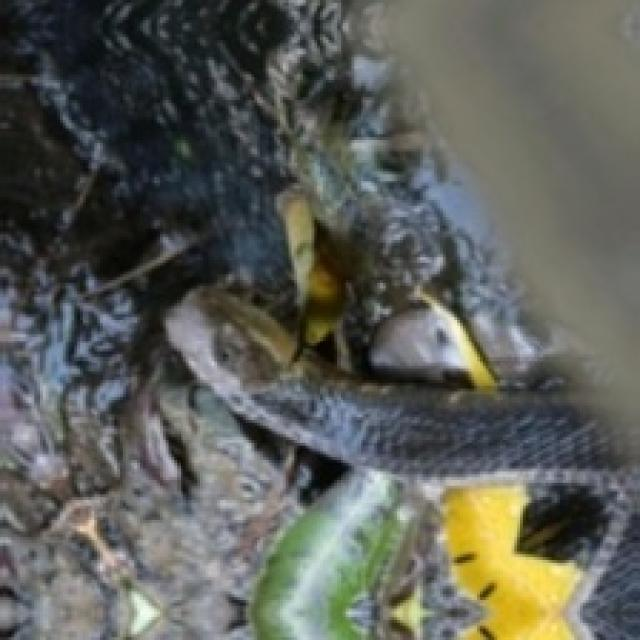king cobra: (166, 286, 609, 637)
